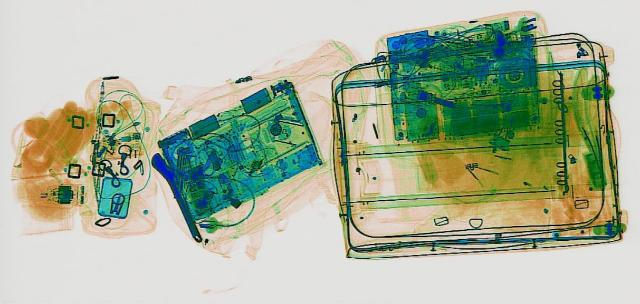Wrench: (145, 151, 207, 241)
